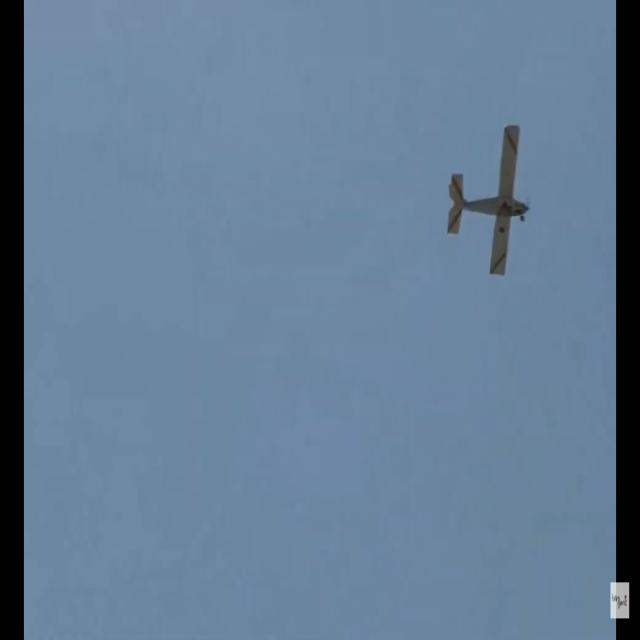iha: (477, 118, 499, 272)
